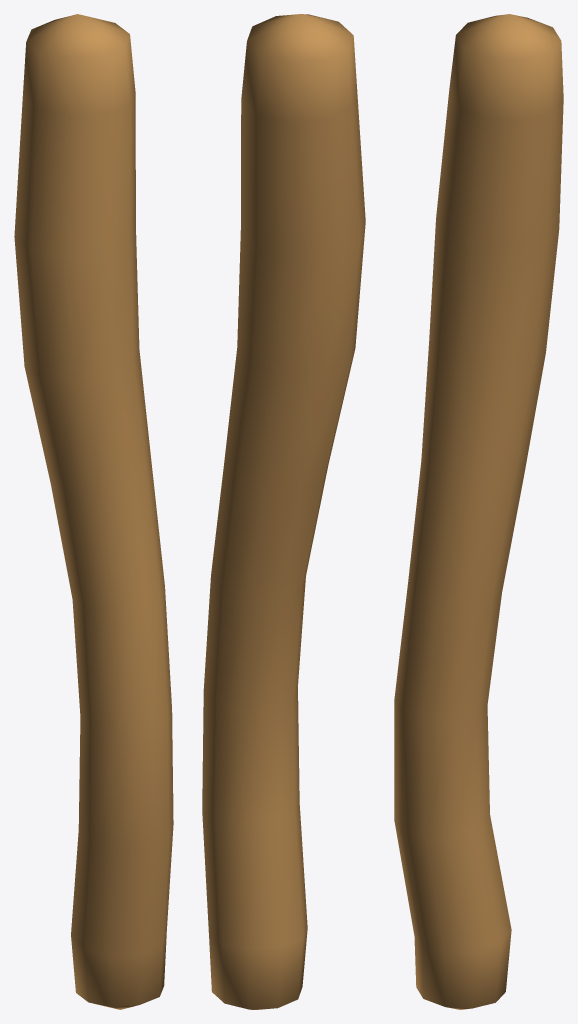
File: tibia_T1_right_leg.obj
3 renders of one model, left to right at view 1: azimuth 30°, elevation 25°; view 2: azimuth 210°, elevation 25°; view 3: azimuth 270°, elevation 25°, orthographic. The views are drawn at different scales.
Size of the model in its own units: 0.00722 by 0.0571 by 0.00888.
